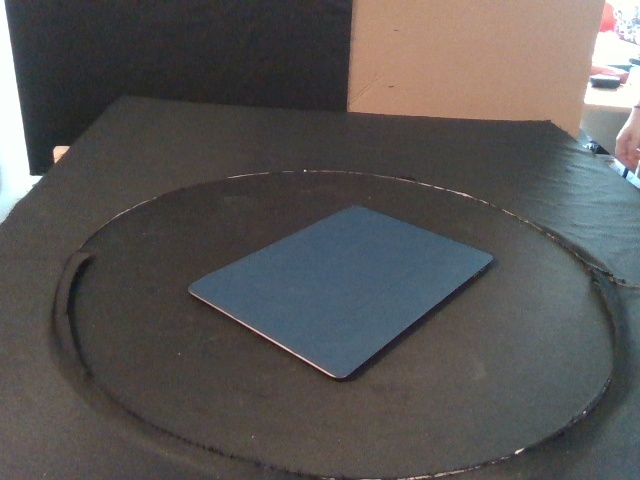laptop: (186, 203, 495, 382)
